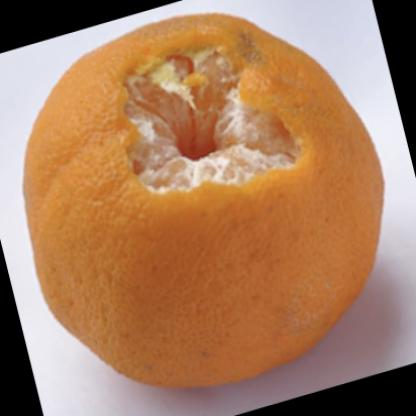fresh: (22, 13, 385, 390)
